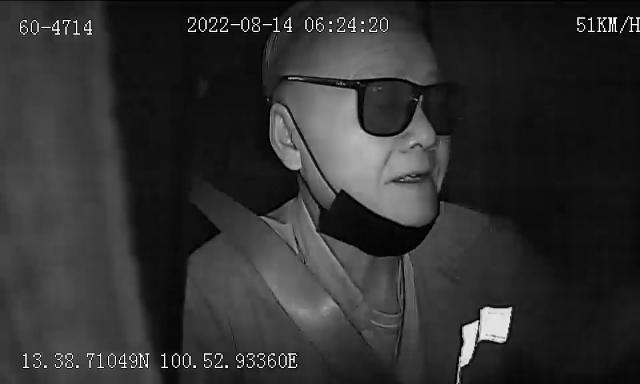Seatbelt: (174, 150, 406, 384)
